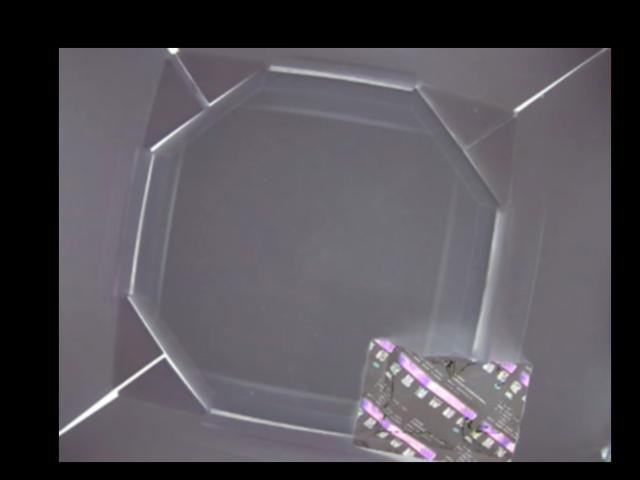Medicine: (352, 339, 532, 462)
